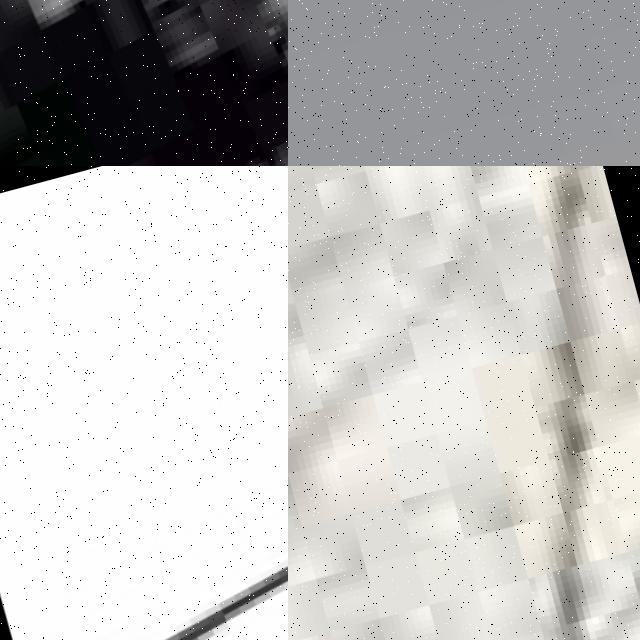drone: (0, 380, 288, 640), (0, 0, 288, 166)
